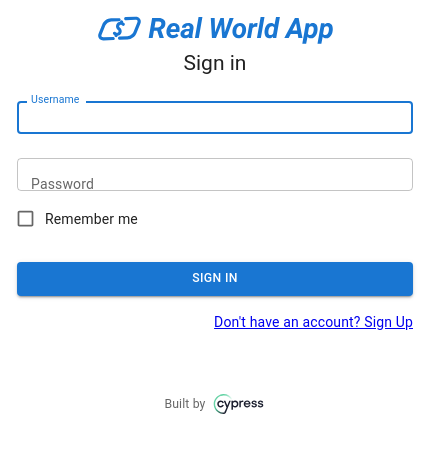
Scenario: Testes de Login e Registro com Fixture › Não deve permitir login com campos vazios
Click the button with test id "signin-submit" at (215, 279), box [17,262,413,295]
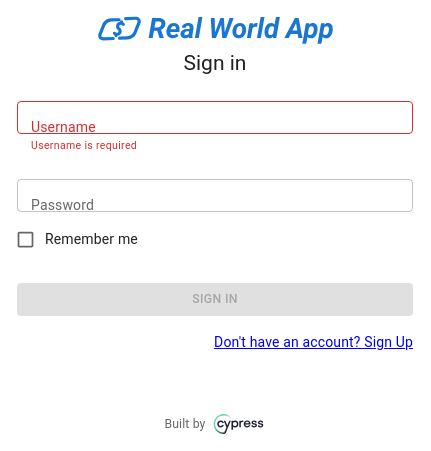
Expected: the text "Username is required" is shown, [31,139,137,152]
